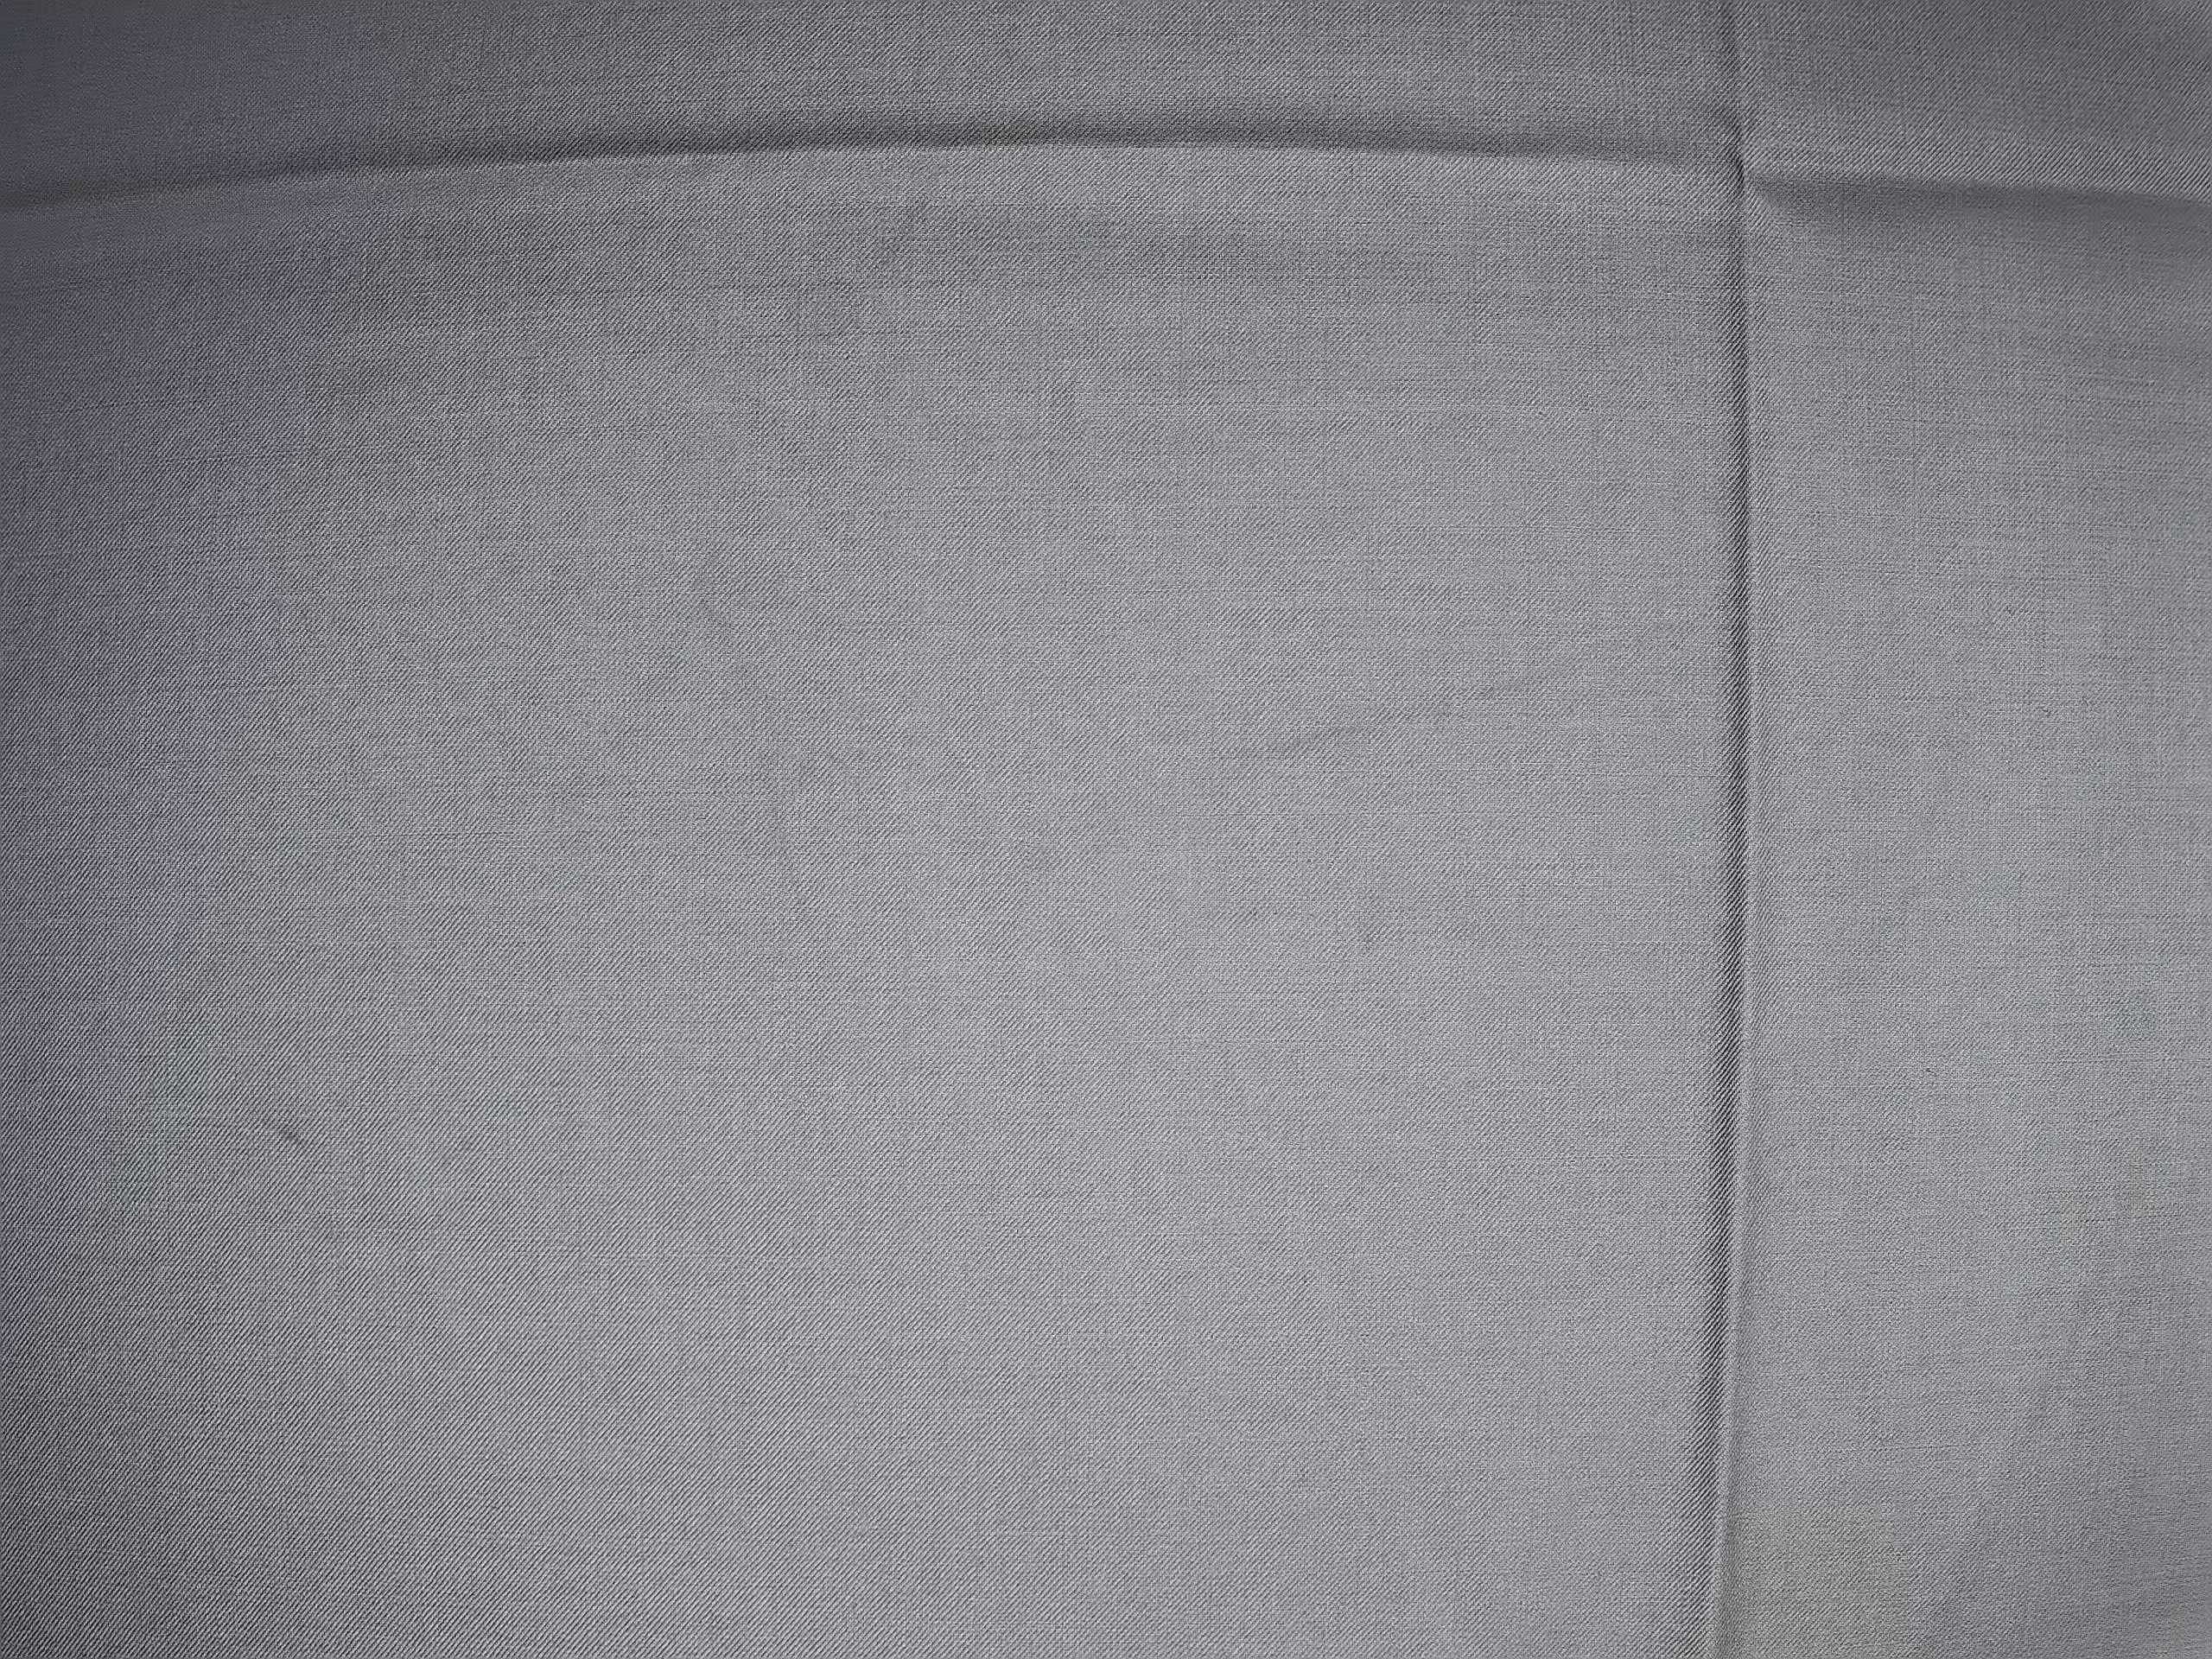stains: (1212, 603, 1694, 774), (670, 556, 825, 952), (239, 1094, 319, 1175)
